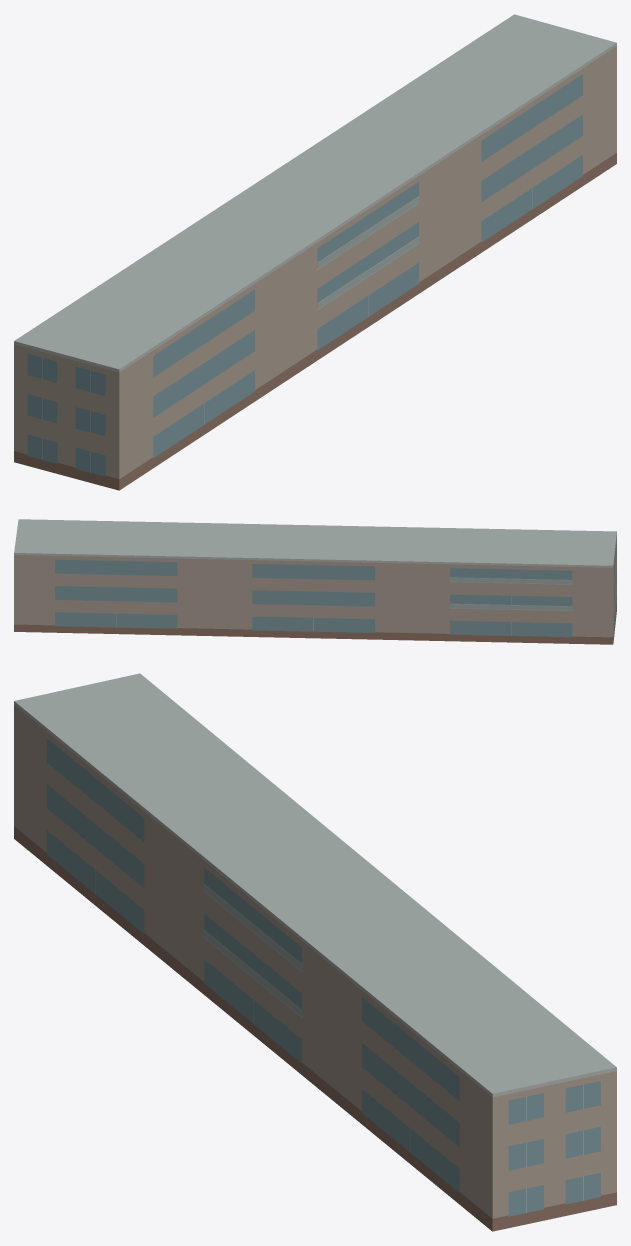
The model's file is survey-upis-32697331.glb.
3 views of the same model, one above another, from view 1: azimuth 30°, elevation 25°; view 2: azimuth 150°, elevation 25°; view 3: azimuth 270°, elevation 25° (orthographic). The views are drawn at different scales.
Parts seen in each view (by area): view 1: survey-upis-32697331.tmp; view 2: survey-upis-32697331.tmp; view 3: survey-upis-32697331.tmp.
Part boxes in pixels (x1,y1,x2,y2): survey-upis-32697331.tmp: (14, 14, 616, 490); survey-upis-32697331.tmp: (14, 519, 616, 644); survey-upis-32697331.tmp: (14, 673, 616, 1231).
Size of the model in its own units: 59.89 by 9.15 by 36.29.
